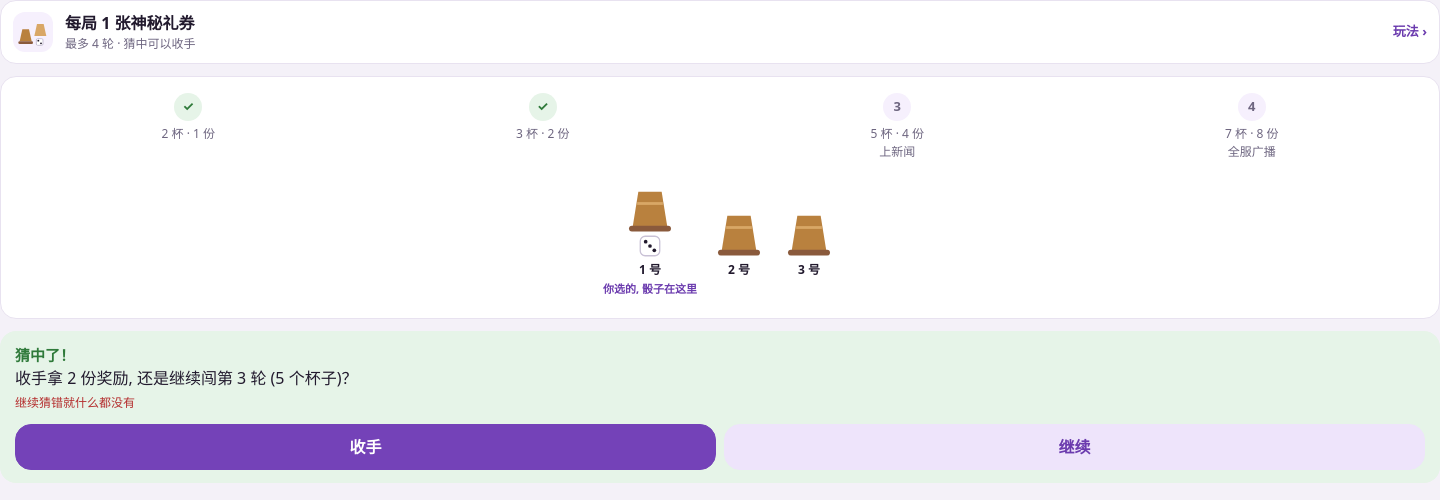
CupPanel › 继续：进下一轮，杯子变多
The image size is (1440, 500).
Click the button with test id "cup-next". click: click(1074, 447)
box: [724,424,1425,470]
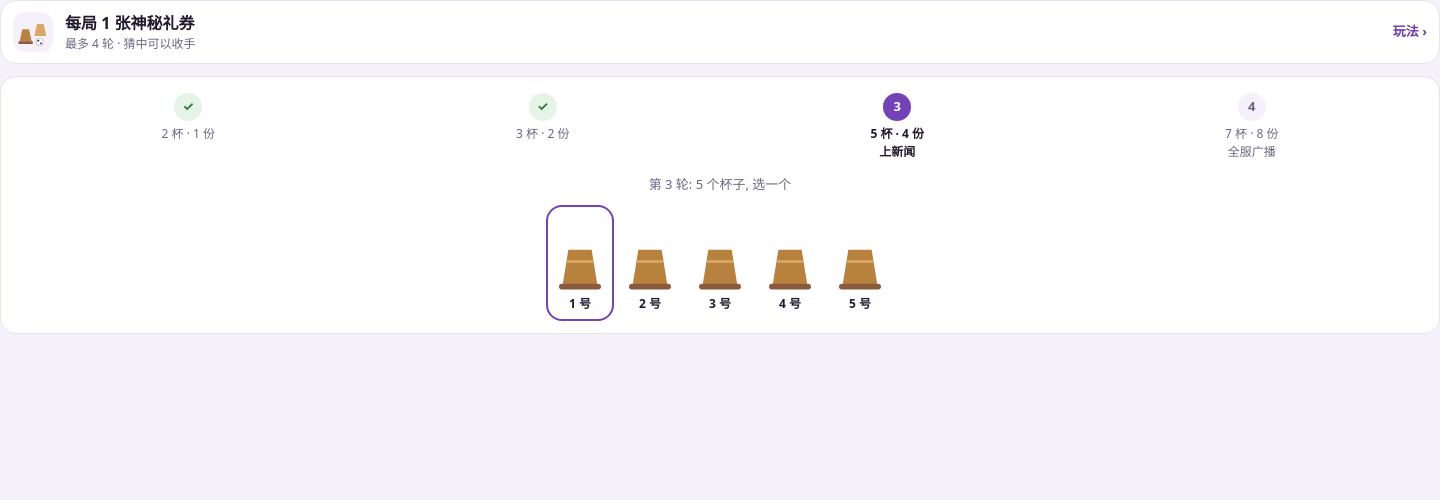
Now the button with test id "cup-4" is enabled, box [830,208,890,316]
